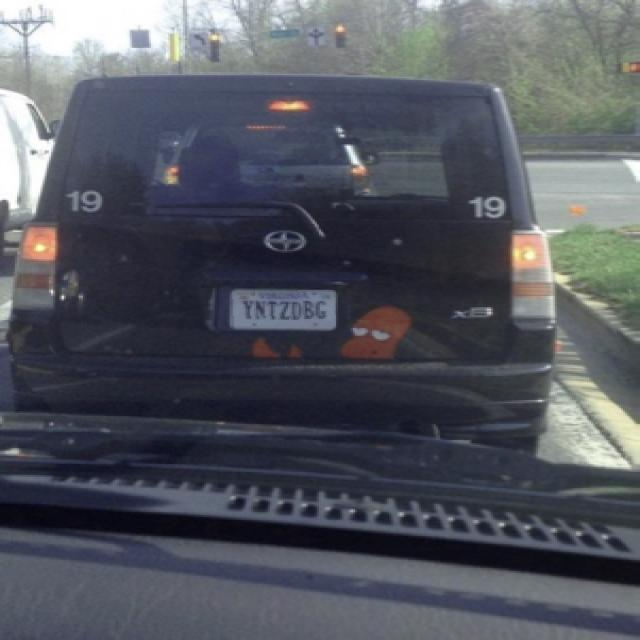licence: (230, 290, 336, 328)
